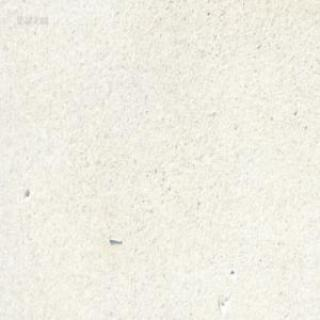Nailtrack_idkeyframe: (105, 233, 122, 243)
